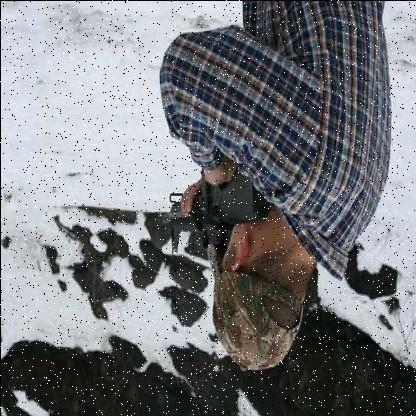rifle: (135, 143, 266, 271)
